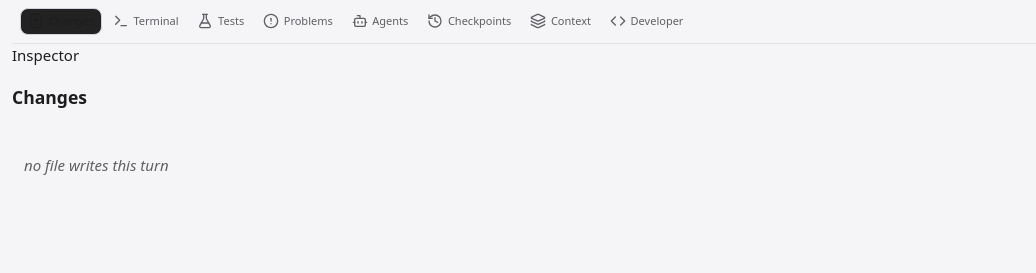
Test: AgentPanel › the Context tab reads the session, model, mode and usage
Click the tab "Context" at [561, 21], box [522,8,599,34]
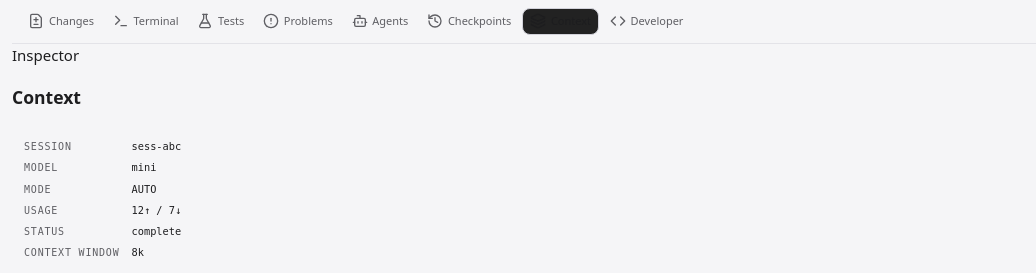
Check: the panel shows "sess-abc", box [132,140,181,152]
Check: the panel shows "mini", box [132,162,156,174]
Check: the panel shows "AUTO", box [132,182,156,194]
